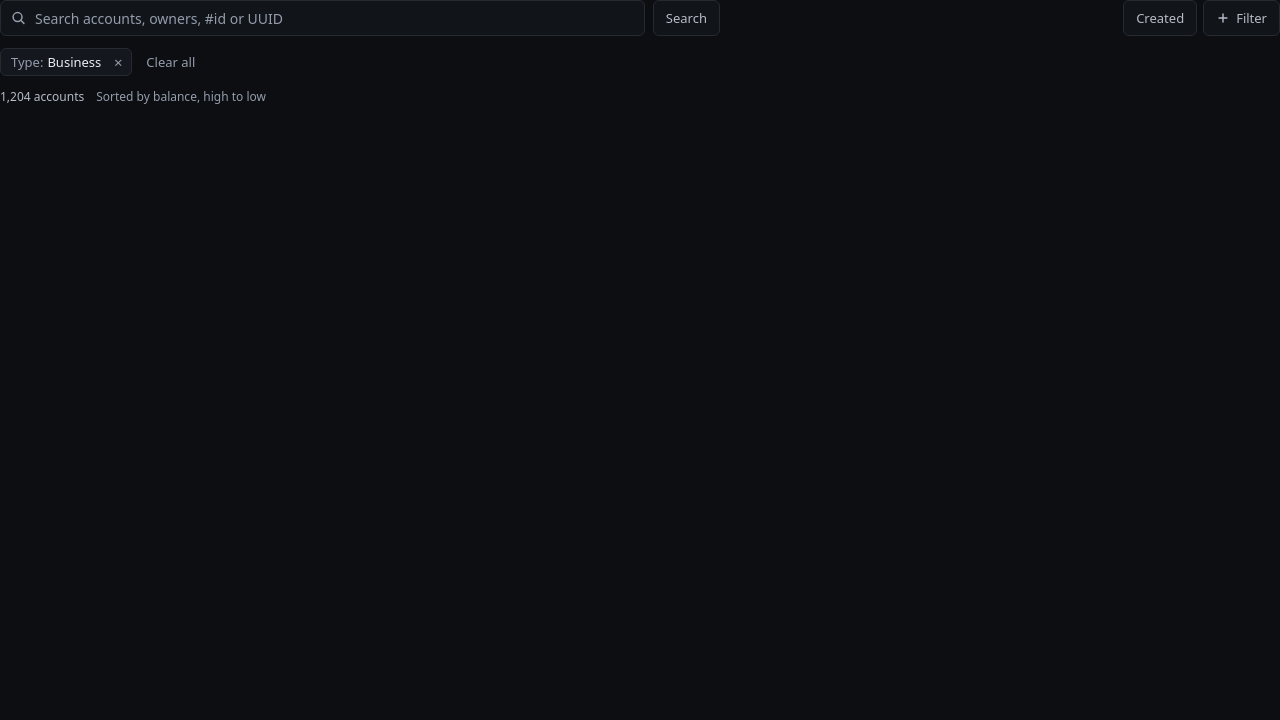
Test: FilterBar popovers › edits a chip: opens its popover with counts, applies the change, and returns focus
Click the button with aria-label "Type: Business. Edit filter" at (53, 62), box left=1, top=49, right=105, bottom=75
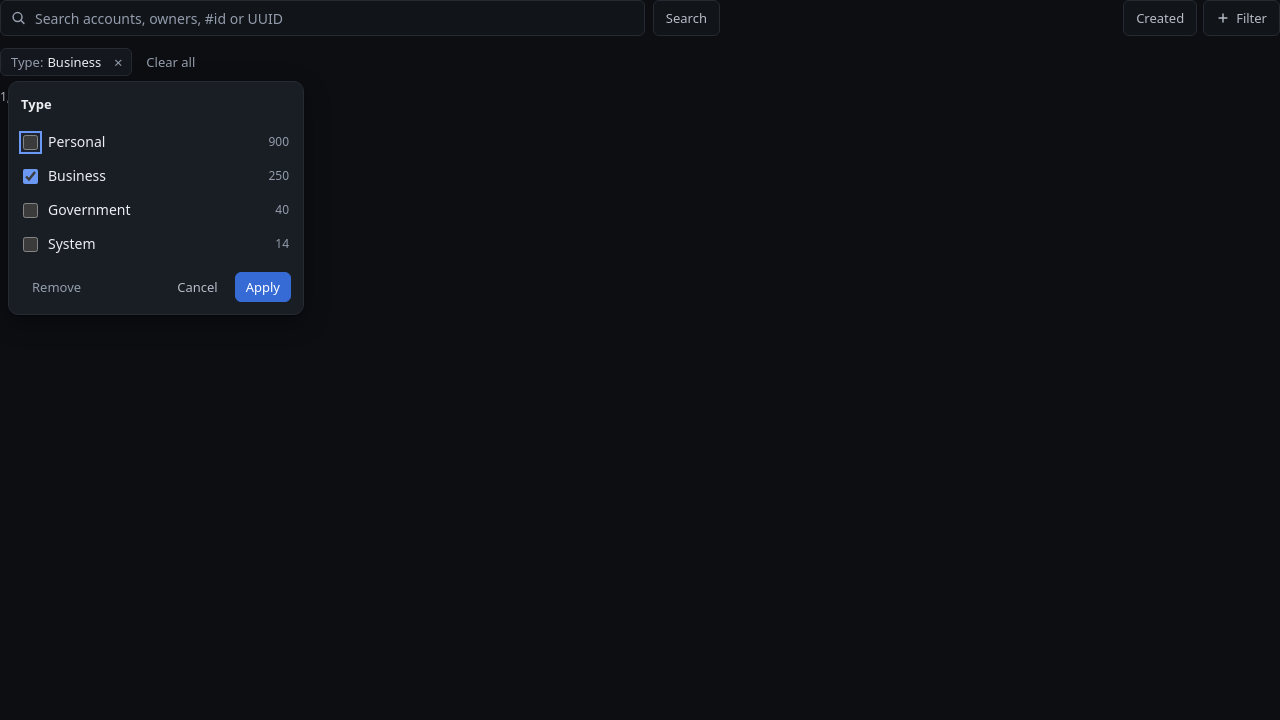
Check: the checkbox labelled "Business 250" is checked, box left=23, top=168, right=38, bottom=184
Check: the text "250" is shown, box left=268, top=166, right=289, bottom=186
Click the checkbox labelled "Government 40" at (30, 210), box left=23, top=202, right=38, bottom=218
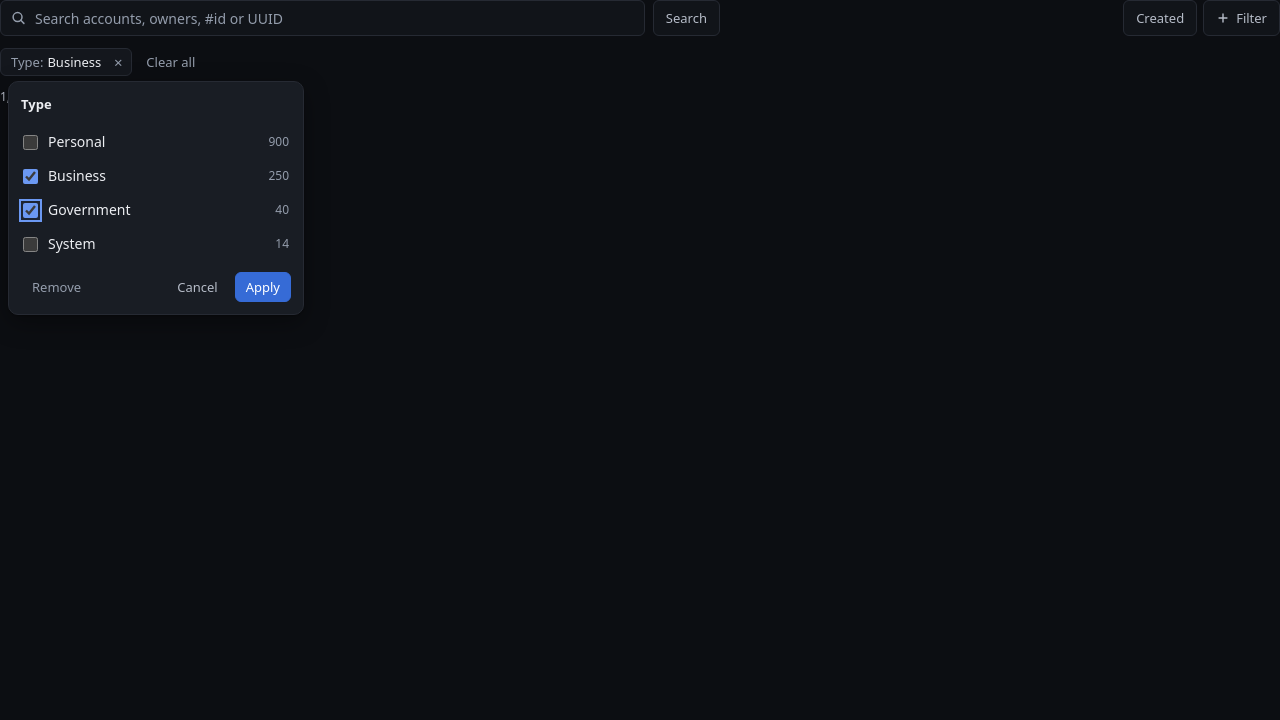
Click the button "Apply" at (263, 287), box left=235, top=272, right=291, bottom=302
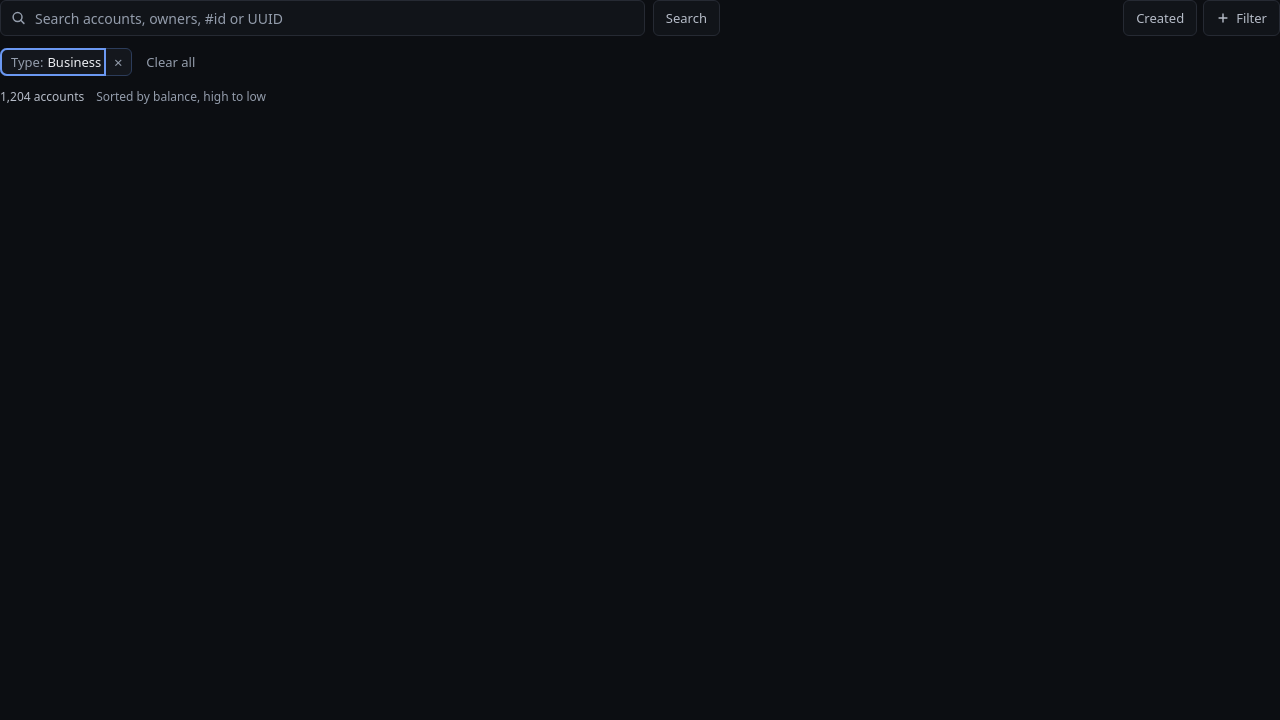
Check: the checkbox is gone
